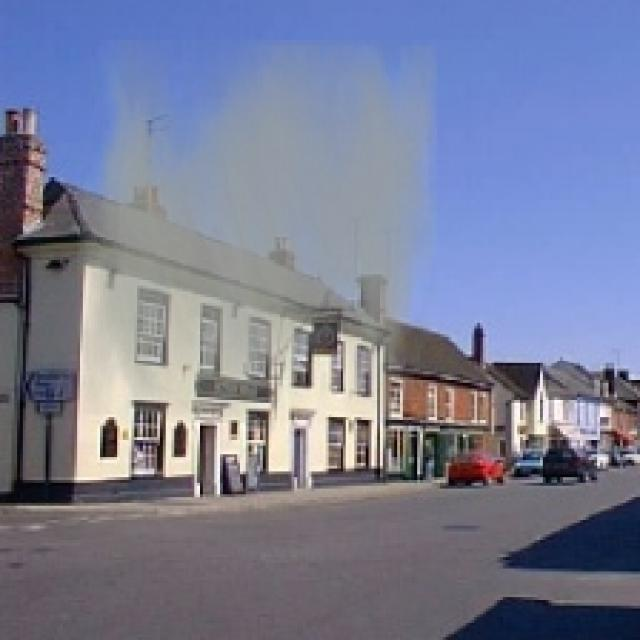smoke: (77, 40, 437, 423)
